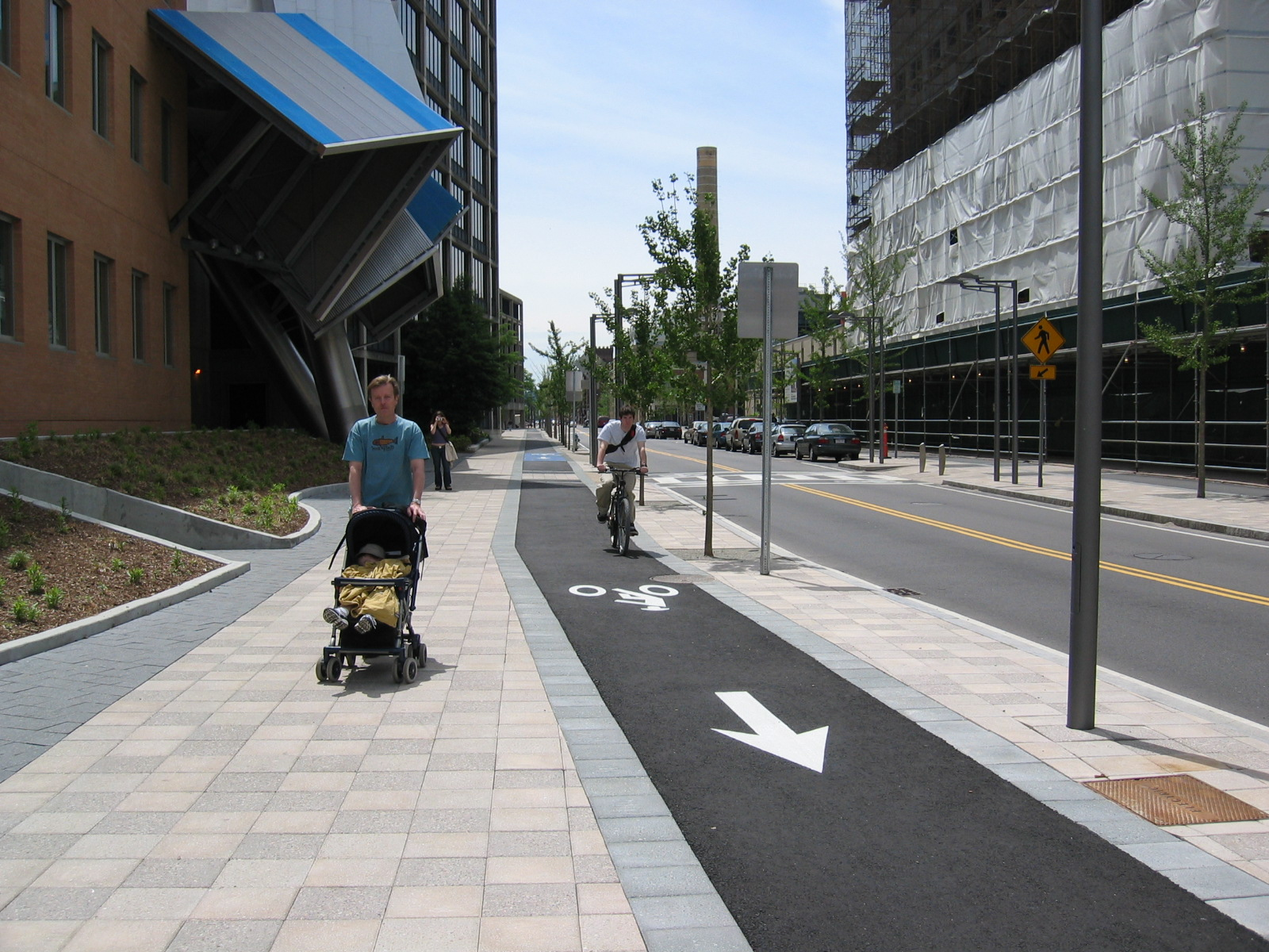Bicycle: (574, 469, 665, 564)
Car: (791, 420, 866, 464)
CrossSign: (1016, 314, 1068, 376)
Crosswalk: (656, 455, 909, 500)
Person: (316, 369, 447, 534), (584, 407, 661, 501), (427, 408, 467, 511)
Tree: (1146, 106, 1258, 509)
